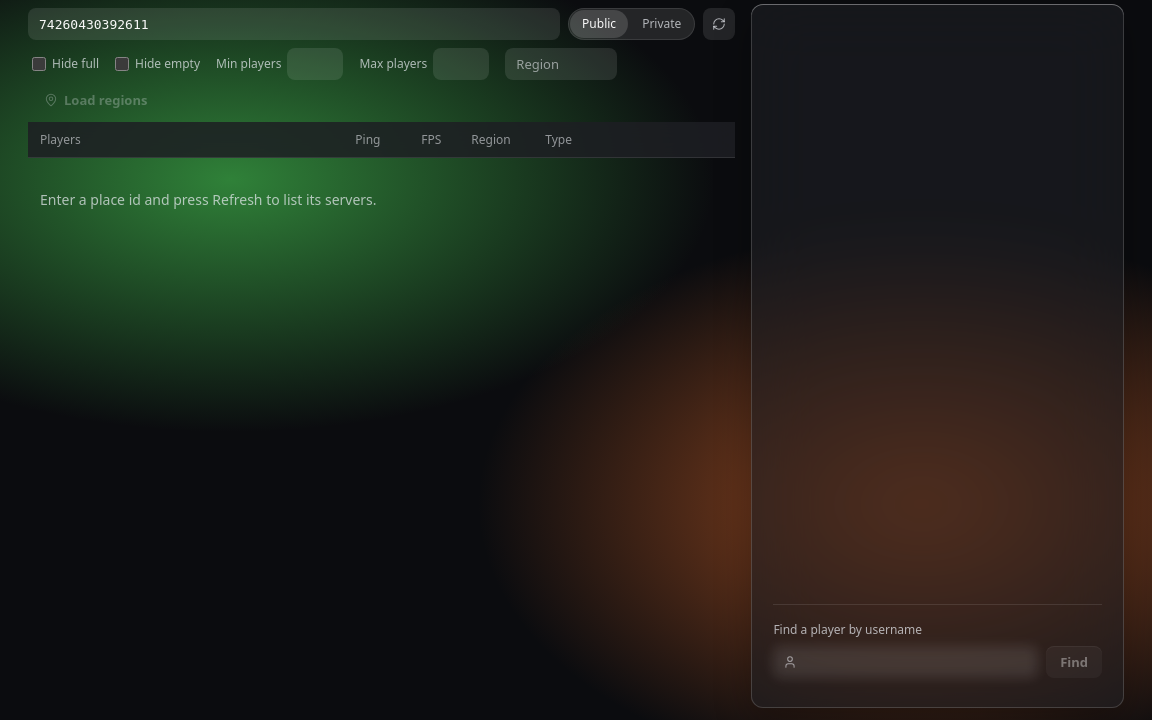
Load regions works again right after a refresh while an older load is still running
Later steps or results of the test are not shown.
Click the button named "Refresh" at (719, 24), box [703,8,735,40]
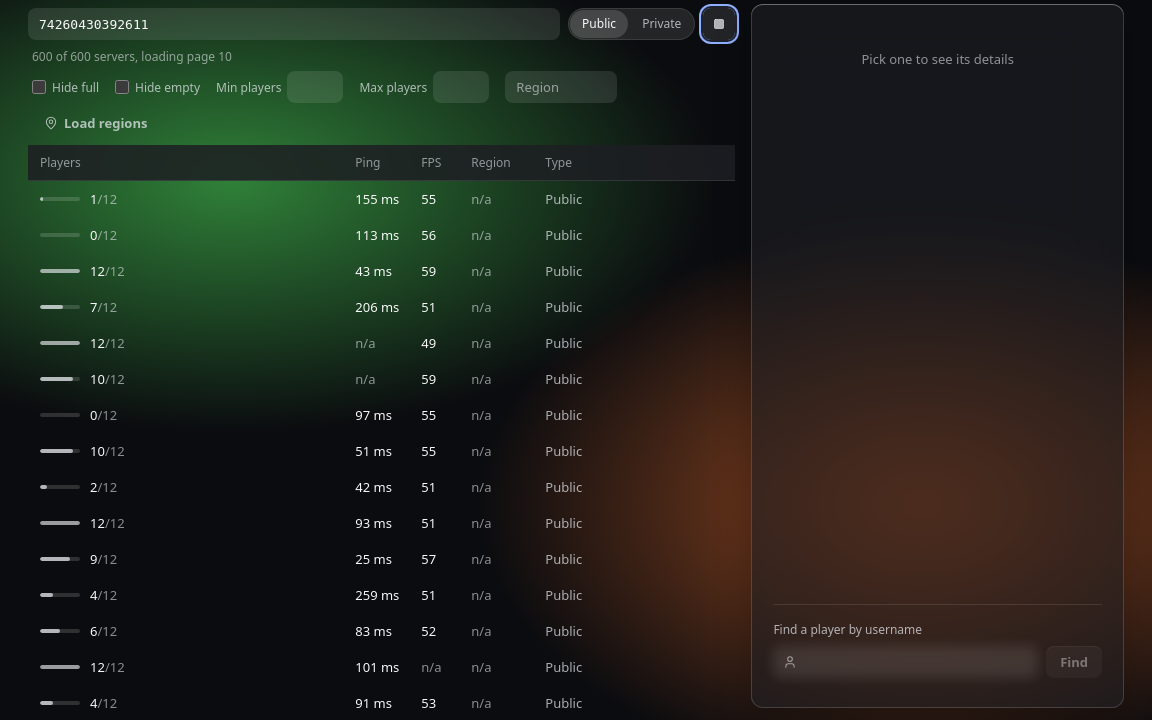
Click the button named "Stop" at (719, 24), box [703,8,735,40]
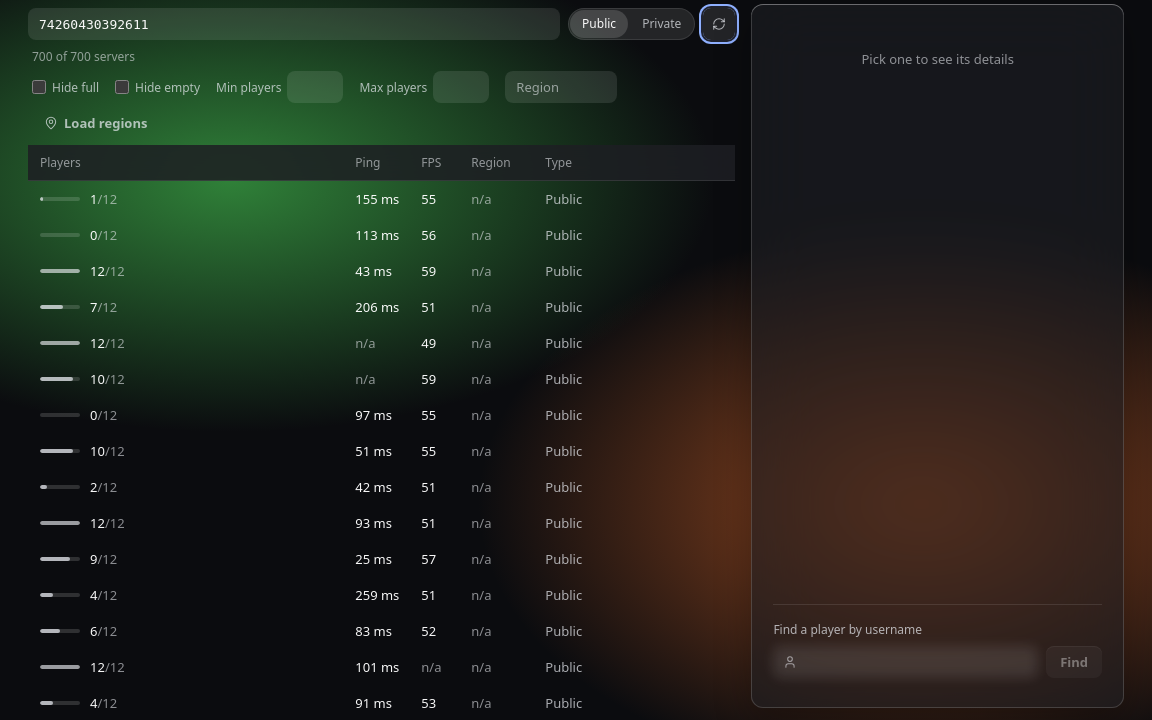
Type "Frankfurt" into the field labelled "Region" at (561, 87), box [505,71,617,103]
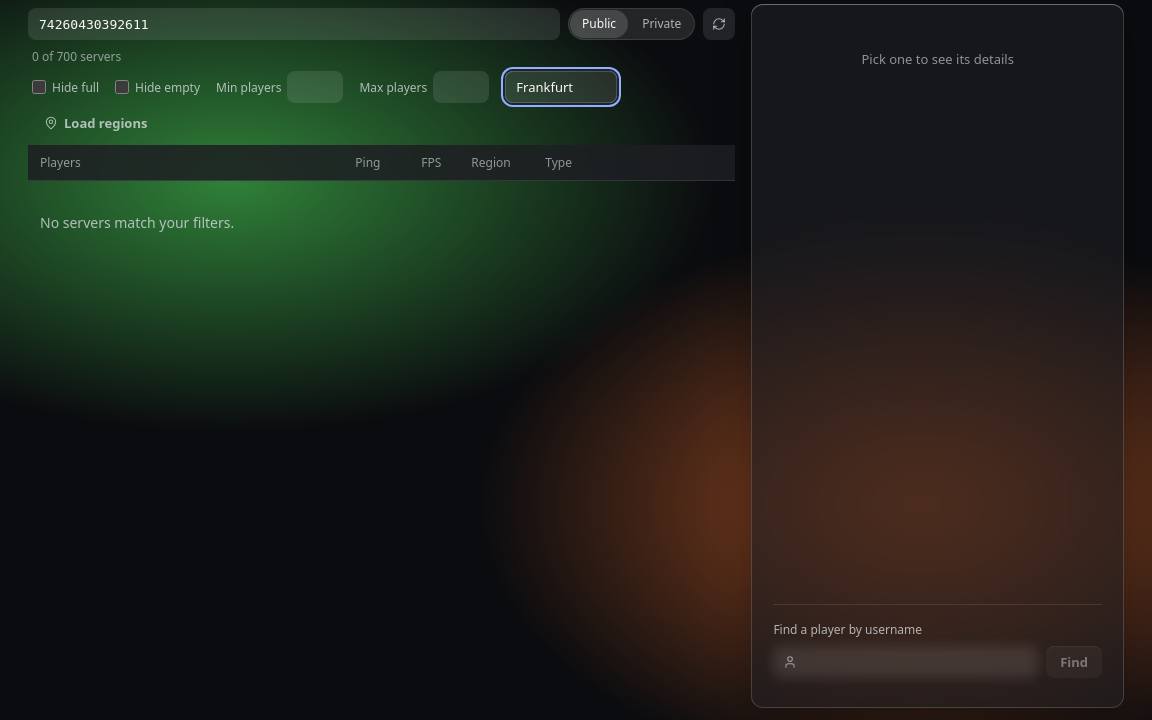
Expected: the button "Load regions" is enabled
Click the button "Load regions" at (96, 123), box [32,109,159,137]
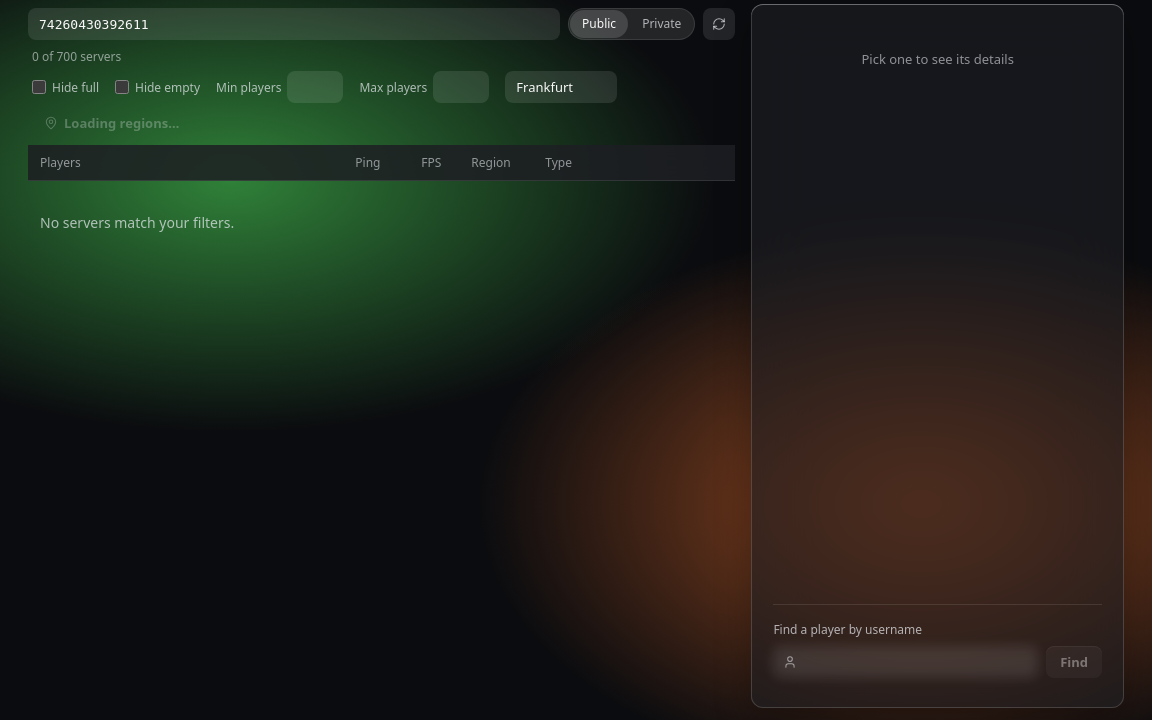
Click the button named "Stop" at (719, 24), box [703,8,735,40]
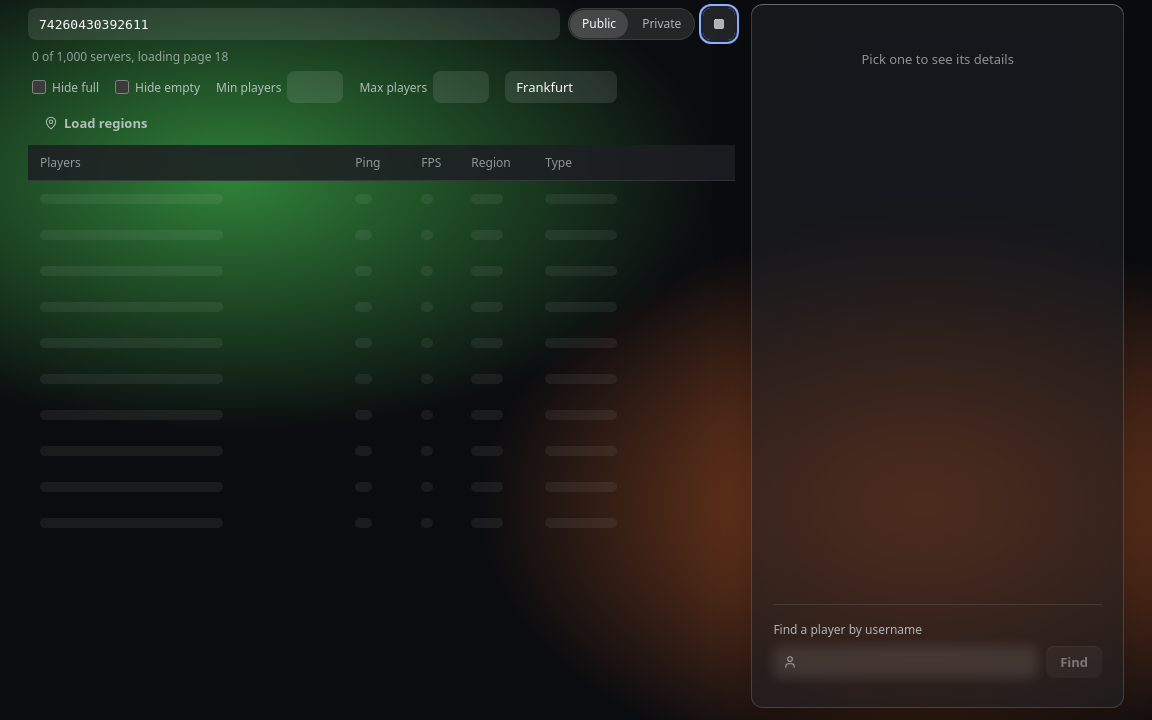
Click the button named "Stop" at (719, 24), box [703,8,735,40]
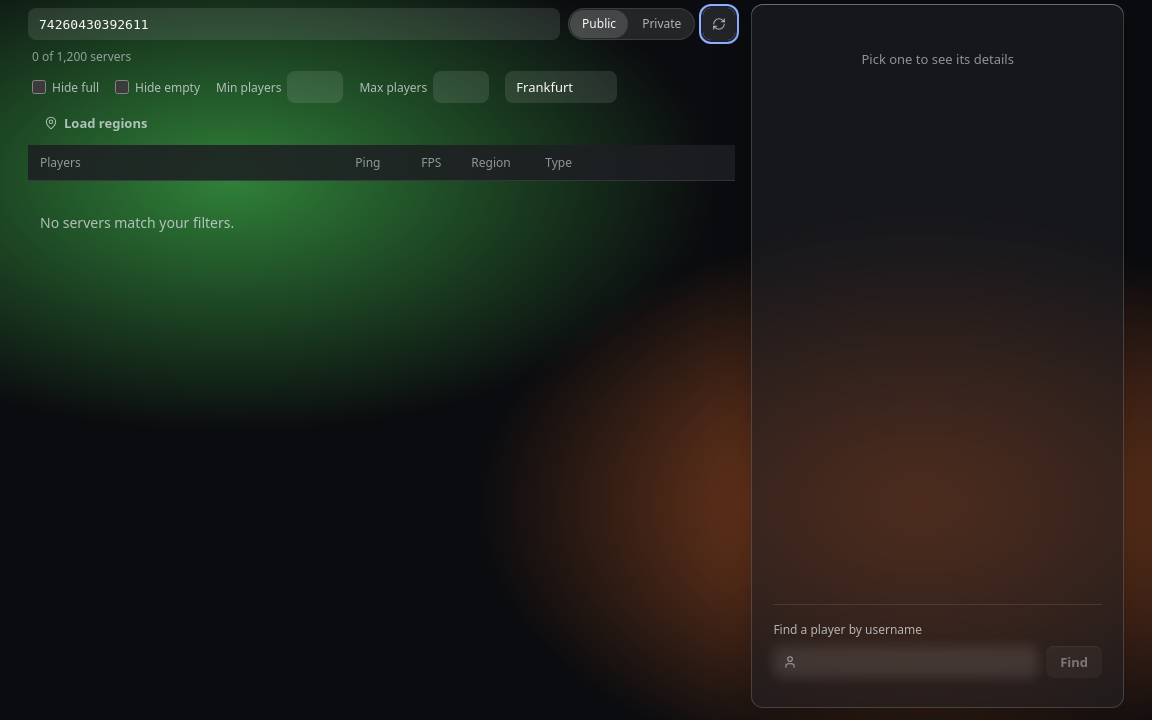
Expected: the button "Load regions" is enabled, [32,109,159,137]
